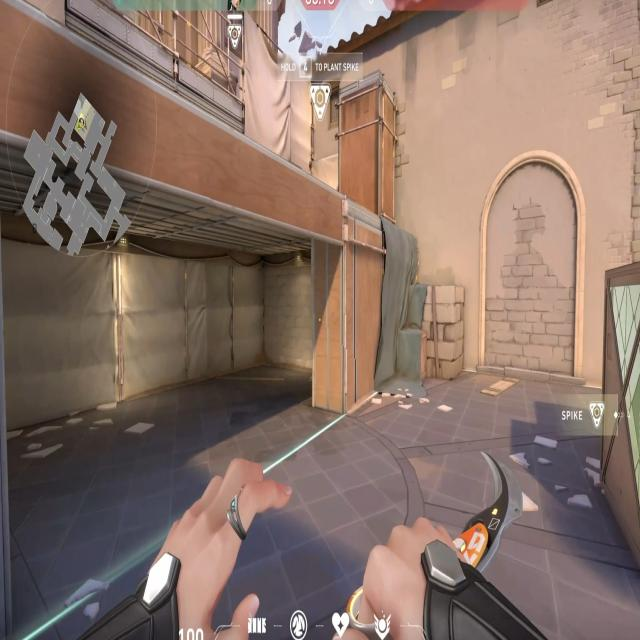A_Heaven_Box: (331, 63, 401, 212)
